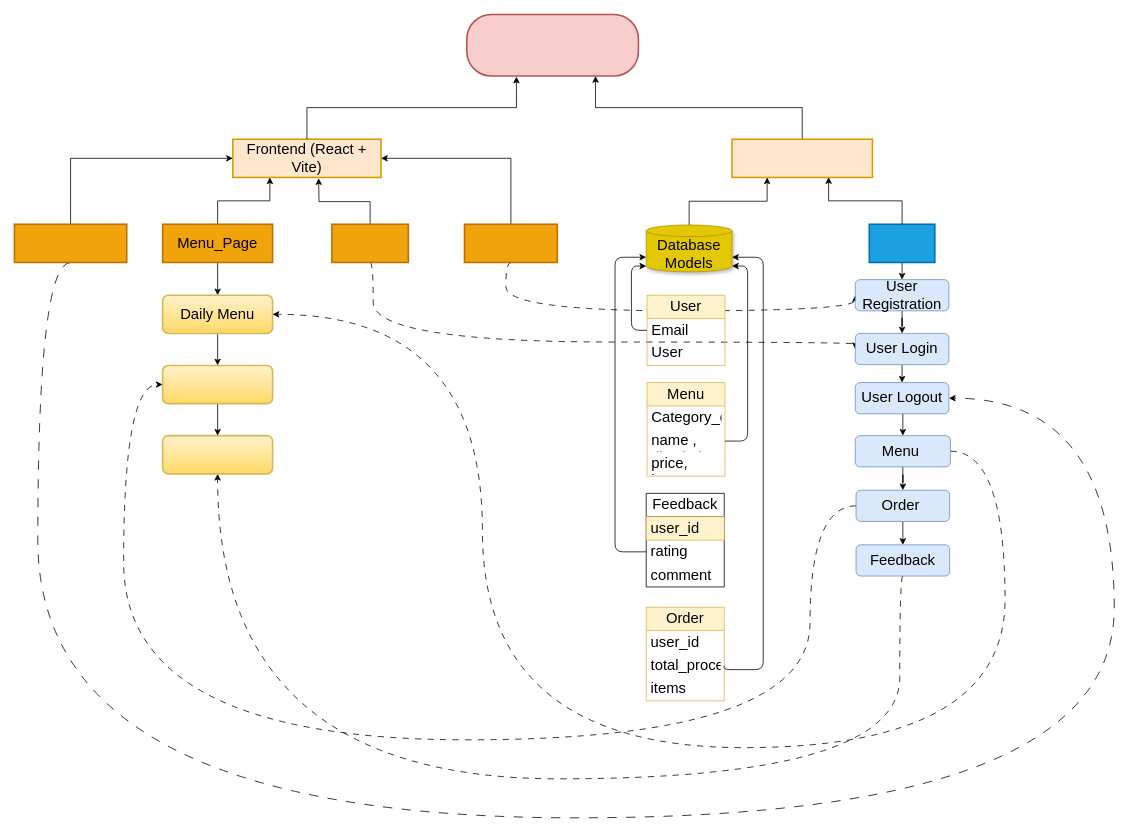
This 1128x831 diagram has some shape labels left out. The centre of each missing label's shape, as x and y in pixels:
"API" belongs at pixel 901 243.
"Backend (Django)" belongs at pixel 802 158.
"Home_page" belongs at pixel 70 243.
"Login" belongs at pixel 370 243.
"Register" belongs at pixel 510 243.
"Restaurant Architecture" belongs at pixel 552 44.
"User Feedback" belongs at pixel 217 454.
"User Order" belongs at pixel 217 384.
